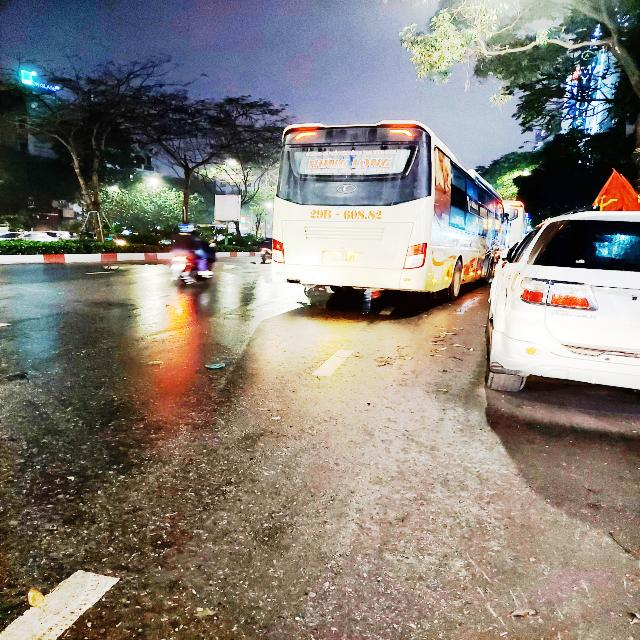license_plate: (331, 252, 357, 264)
